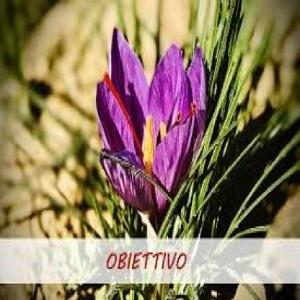Saffron: (96, 25, 194, 225)
